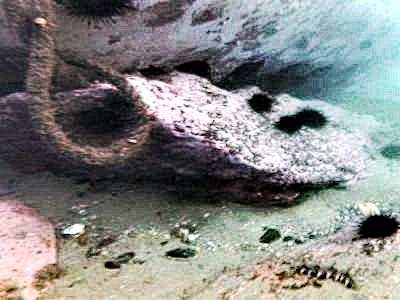urchin: (73, 107, 131, 145), (66, 2, 134, 23), (359, 213, 394, 237), (298, 106, 324, 129), (277, 113, 300, 132), (250, 94, 273, 111)
